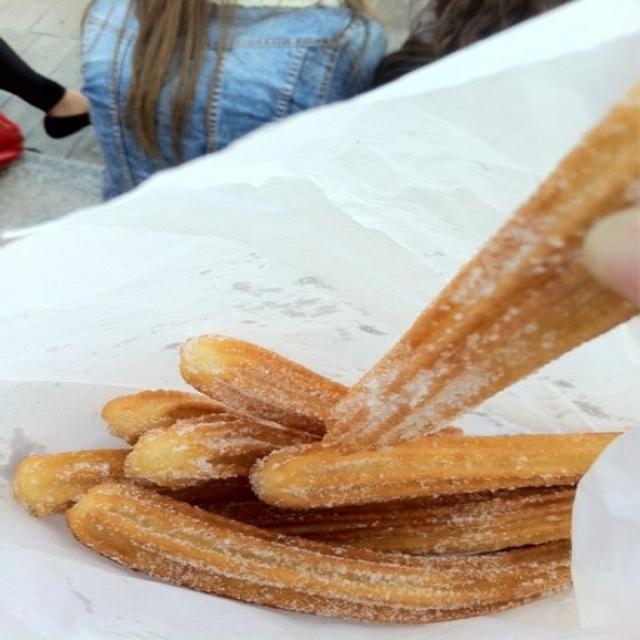炸货点心: (9, 135, 627, 616)
